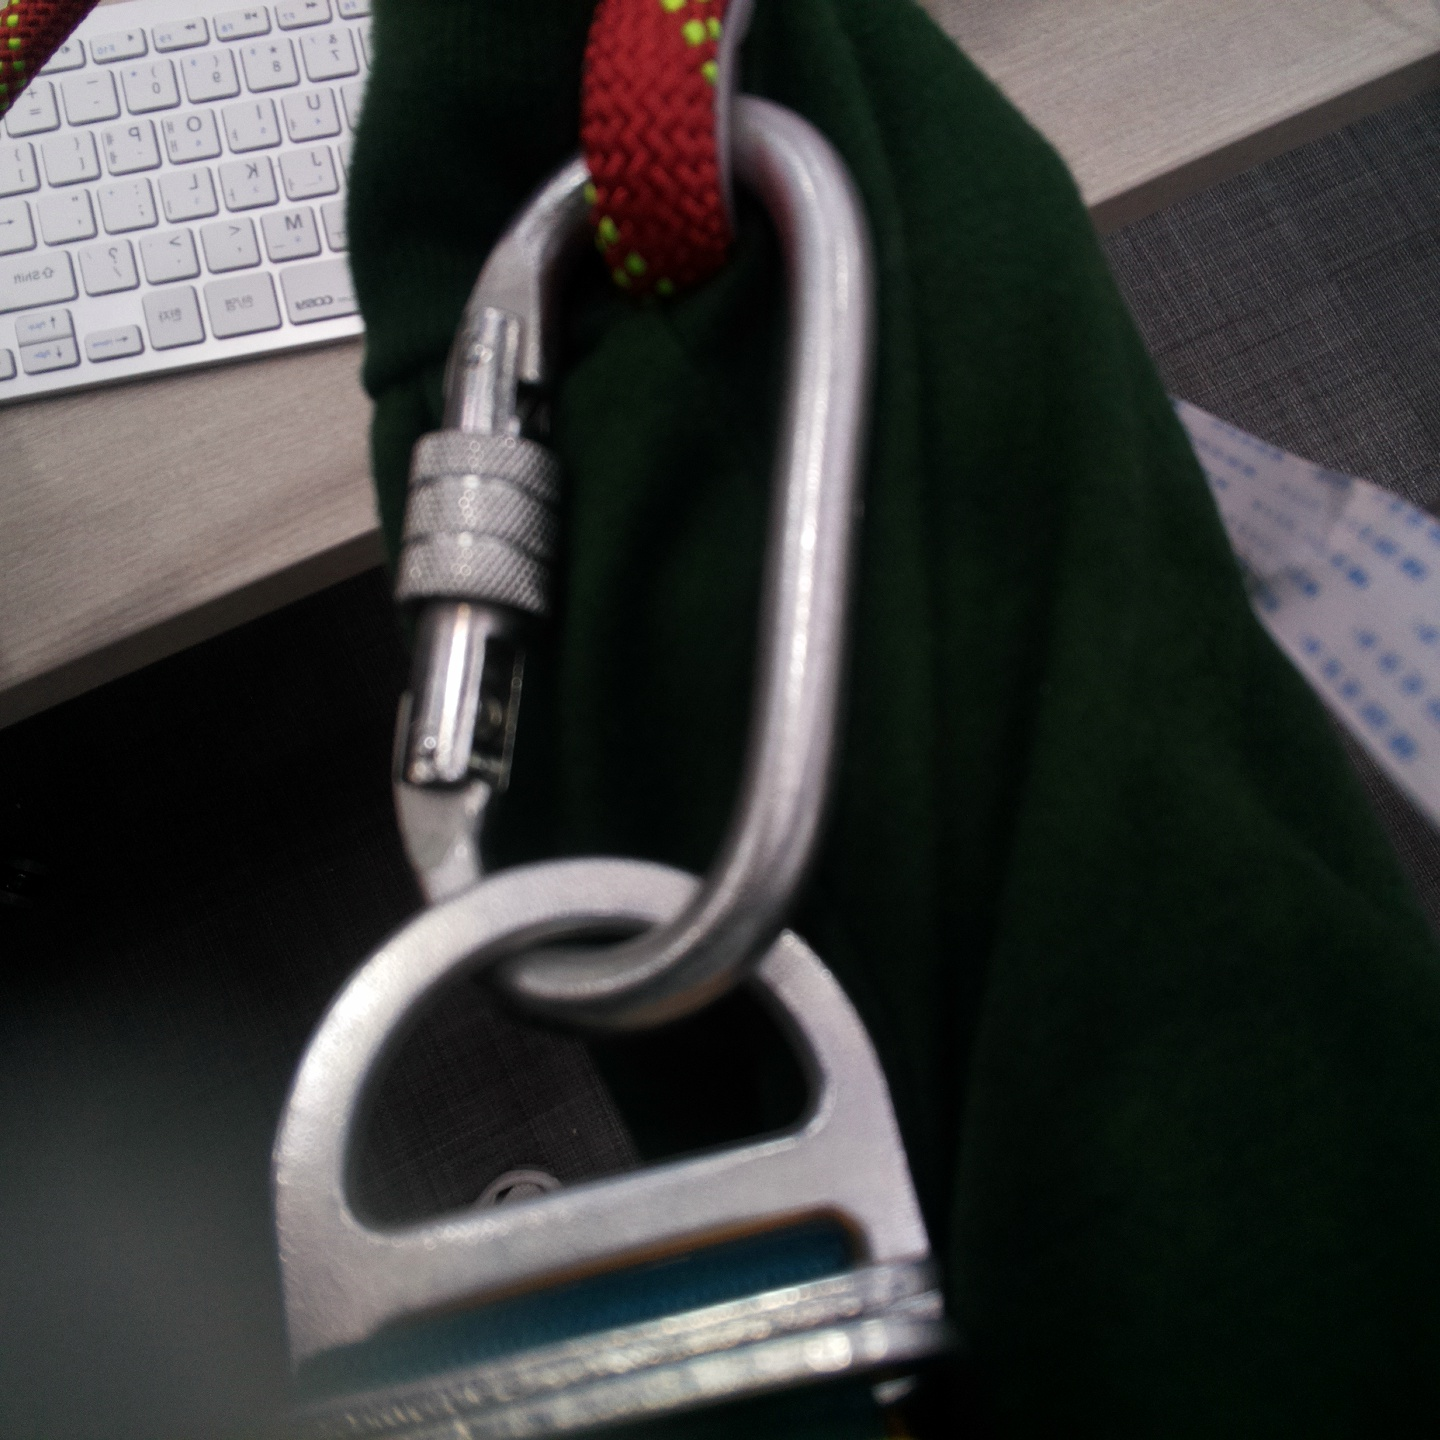SUCCESS: (396, 303, 870, 833), (877, 796, 903, 843)
